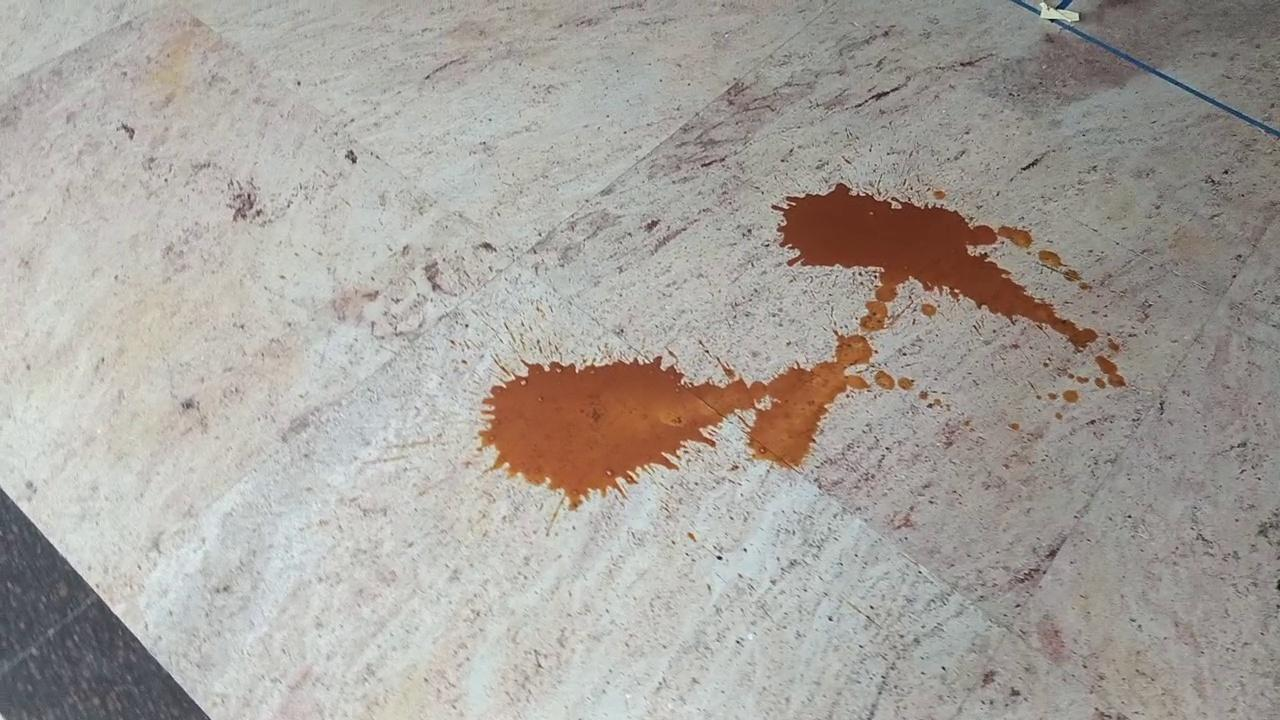dirty_floor: (489, 185, 1126, 505)
